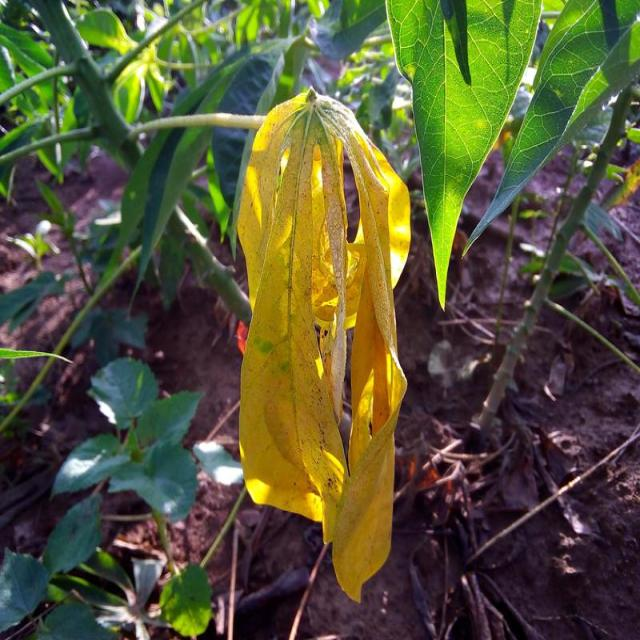cassava leaf: (234, 84, 412, 603), (384, 0, 542, 310), (460, 0, 638, 262)
